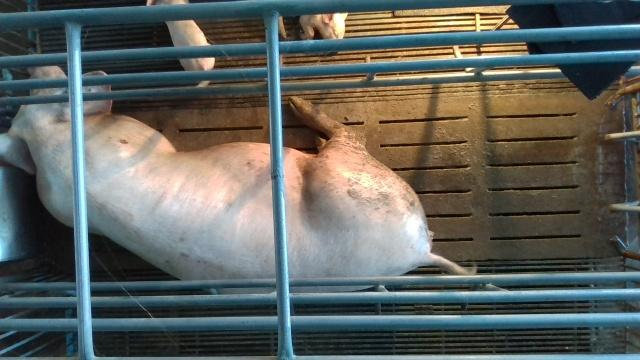piglet: (146, 0, 215, 87), (279, 14, 348, 39)
sow-sit: (0, 66, 476, 294)
